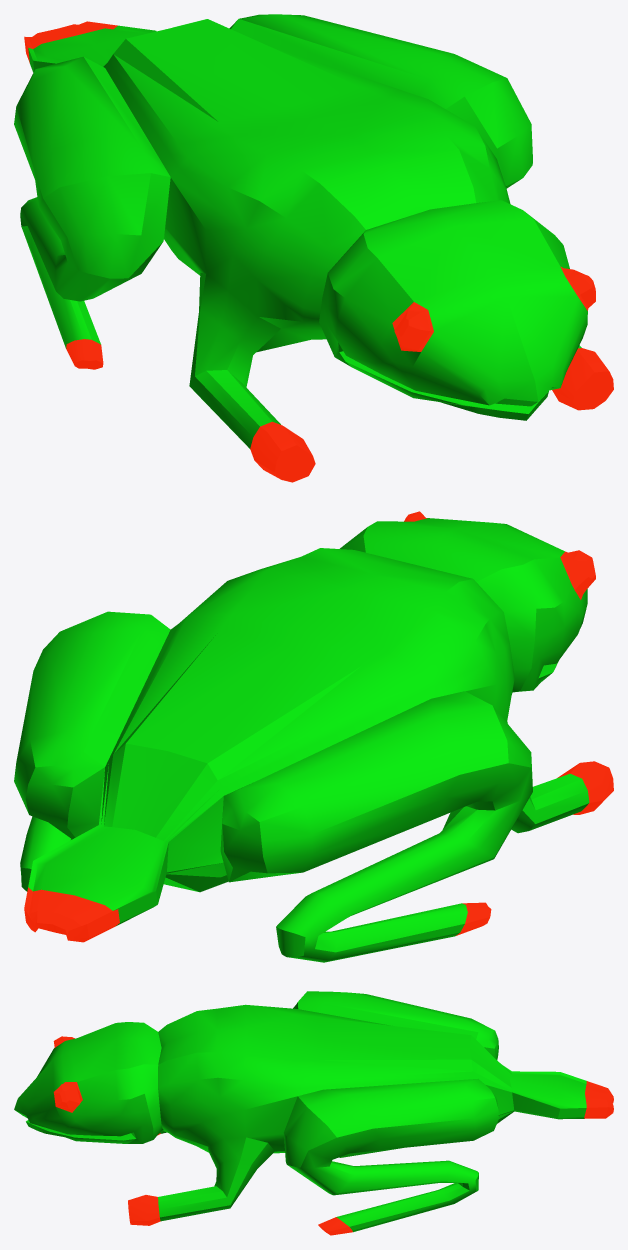
Rendered from teki3.fbx.
The picture shows the model from 3 angles, top to bottom: view 1: azimuth 30°, elevation 25°; view 2: azimuth 150°, elevation 25°; view 3: azimuth 270°, elevation 25°; orthographic projection. The views are drawn at different scales.
Visible parts, largest first — view 1: 平面; view 2: 平面; view 3: 平面.
Boxes of the visible parts, x1,y1,x2,y2 form: 平面: (14,14,613,482); 平面: (14,511,613,962); 平面: (14,991,613,1235).
Size of the model in its own units: 131 by 65.92 by 237.
